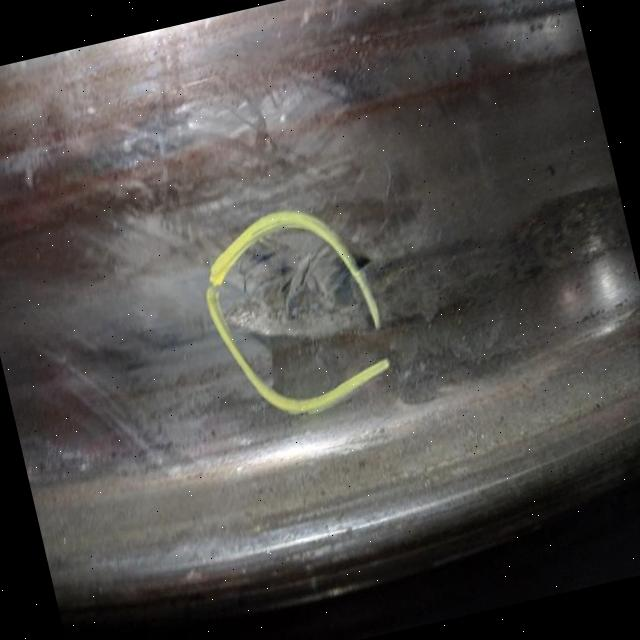Rollerpile: (218, 232, 359, 352)
